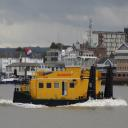tugboat: (13, 42, 118, 111)
